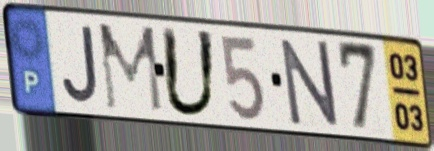5: (217, 31, 267, 124)
7: (334, 37, 381, 135)
J: (59, 24, 102, 107)
M: (95, 21, 166, 116)
N: (277, 38, 342, 129)
U: (158, 24, 220, 121)
